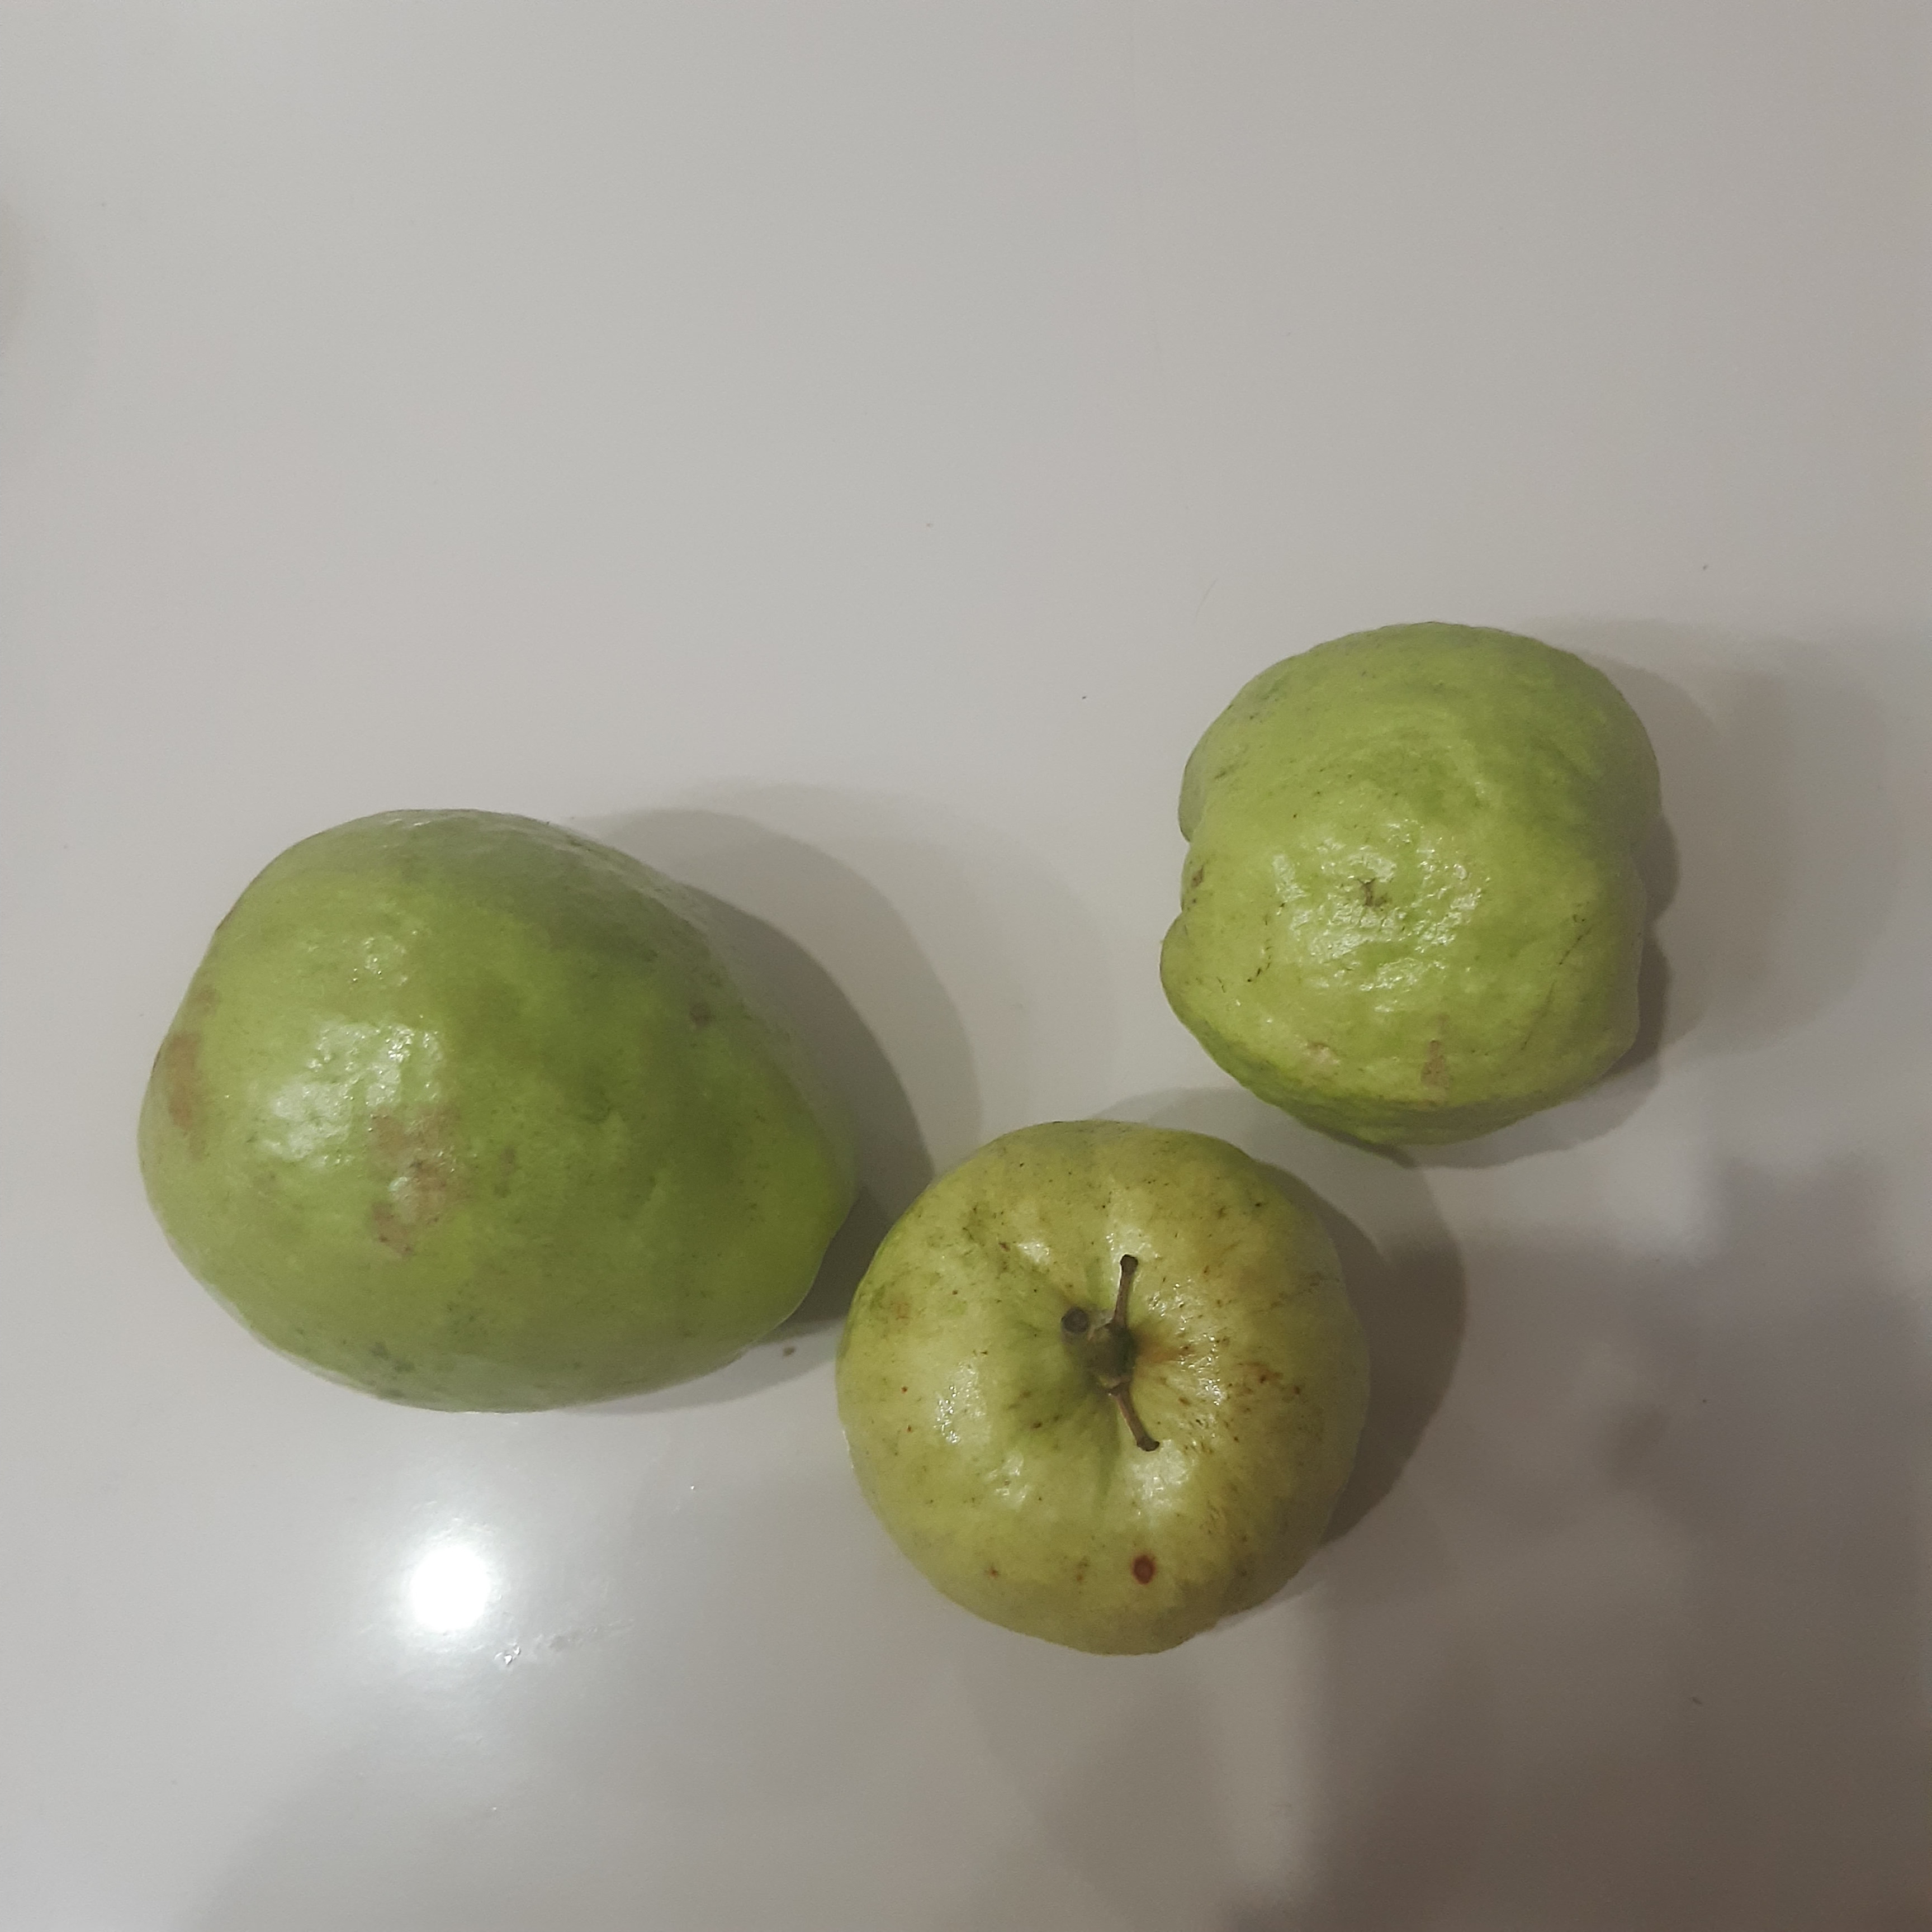Oi: (133, 809, 862, 1417), (839, 1120, 1368, 1656), (1154, 623, 1652, 1152)
